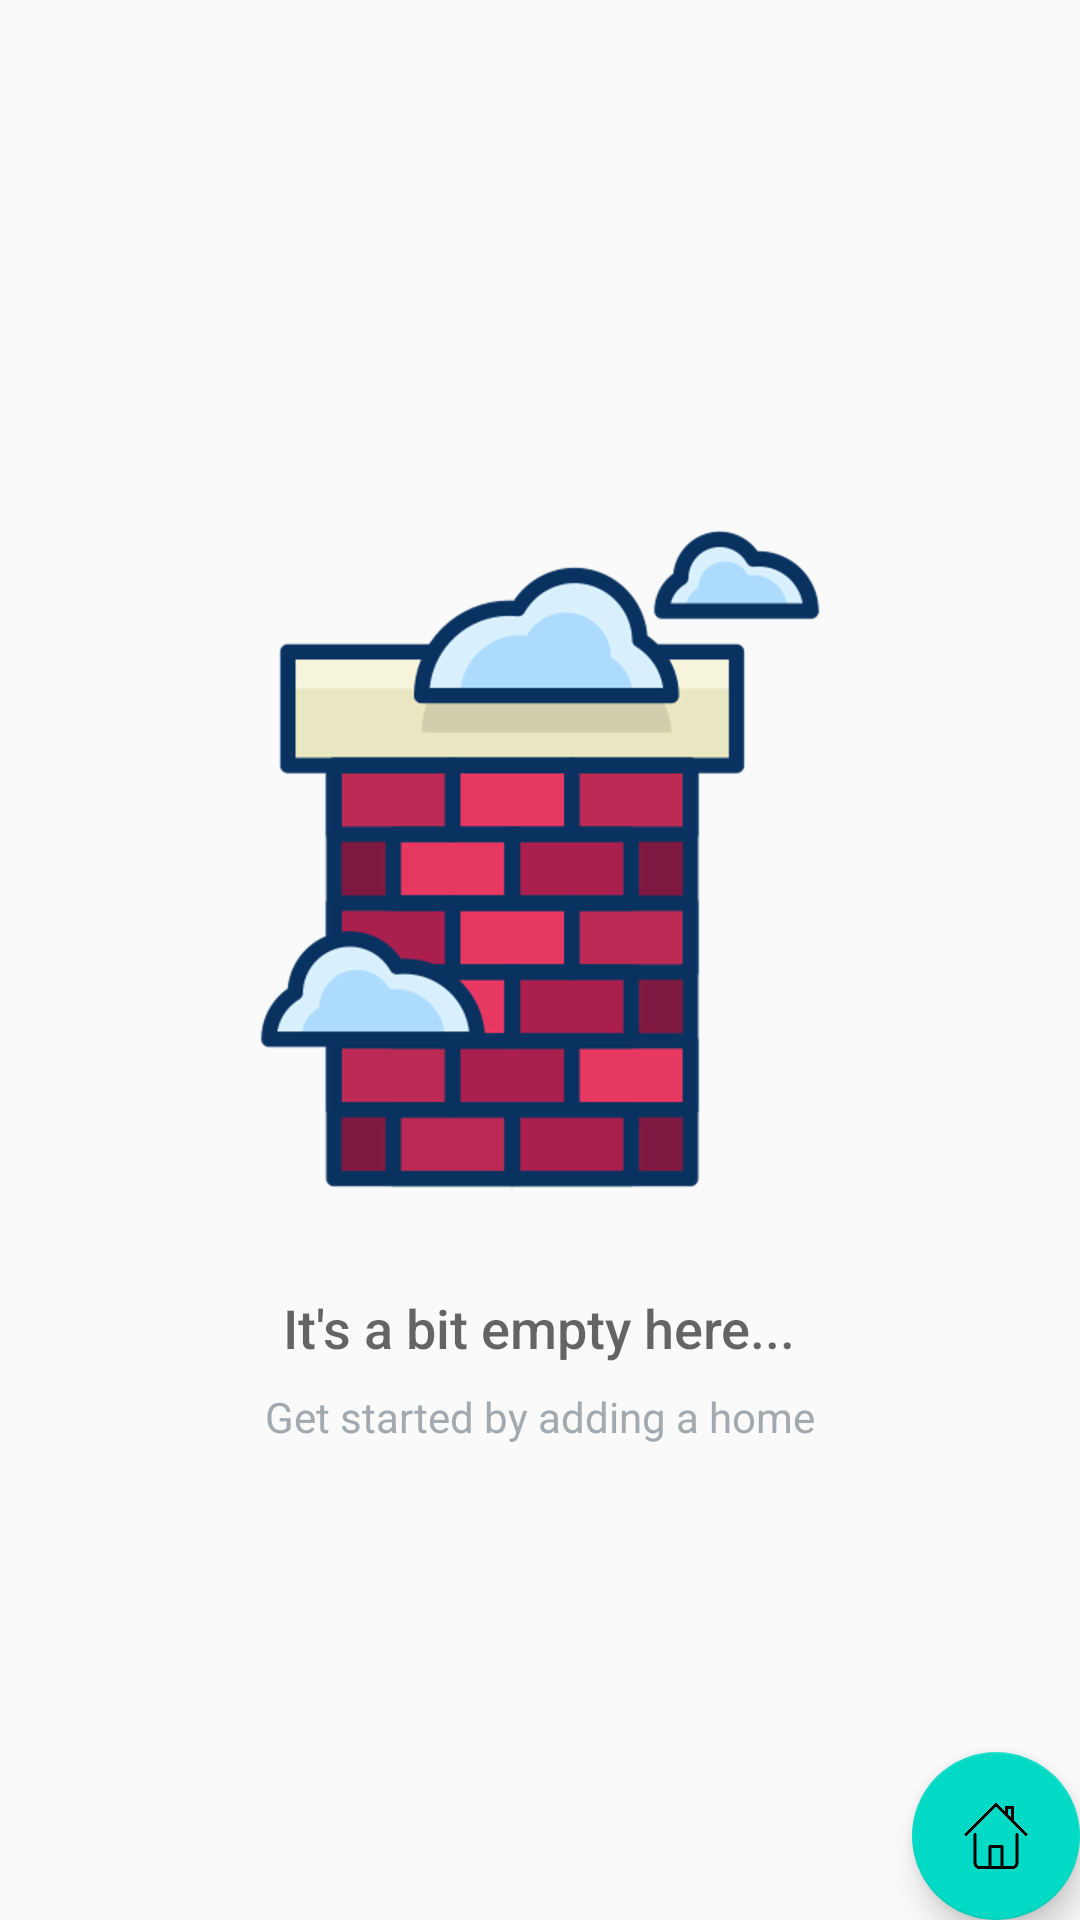

Icon click points for this 1080w x 1920h phone screenshot, format [x,y]:
add home: [996,1836]
